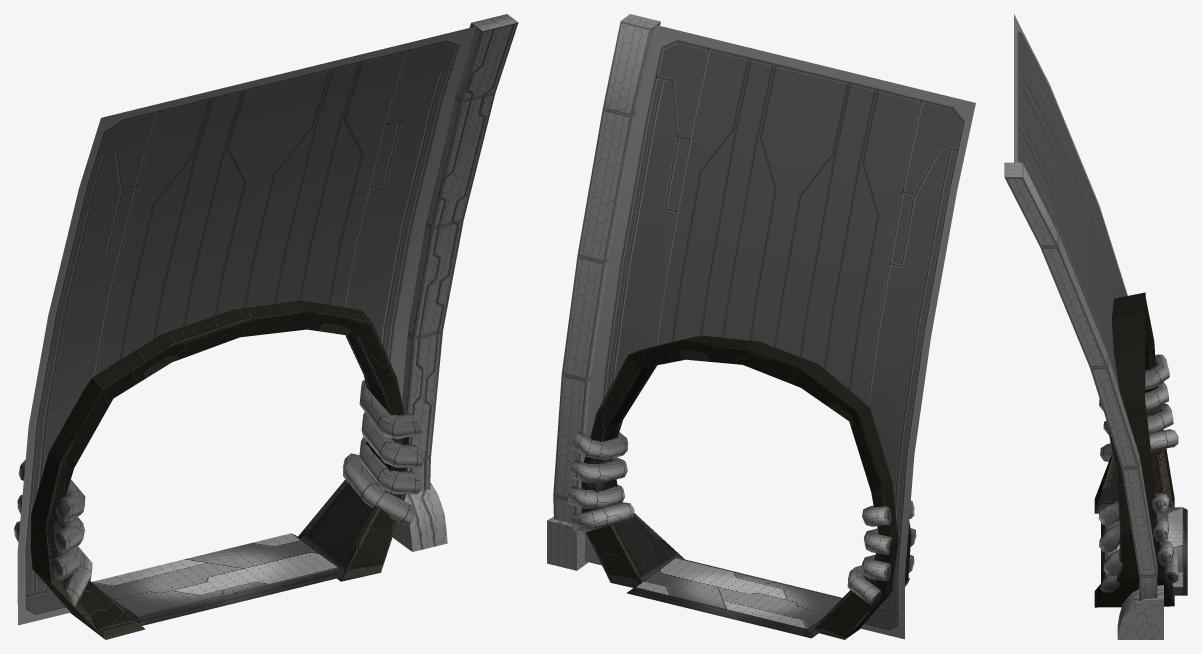
File: Door wall 02.fbx
3 renders of one model, left to right at view 1: azimuth 30°, elevation 25°; view 2: azimuth 150°, elevation 25°; view 3: azimuth 270°, elevation 25°, orthographic. The views are drawn at different scales.
Visible parts, largest first — view 1: Door wall 02; view 2: Door wall 02; view 3: Door wall 02.
Part boxes in pixels (x1,y1,x2,y2): Door wall 02: (14,14,518,639); Door wall 02: (547,14,975,639); Door wall 02: (1004,14,1187,639).
Bounding box in the file's own units: 417 × 555 × 199.
